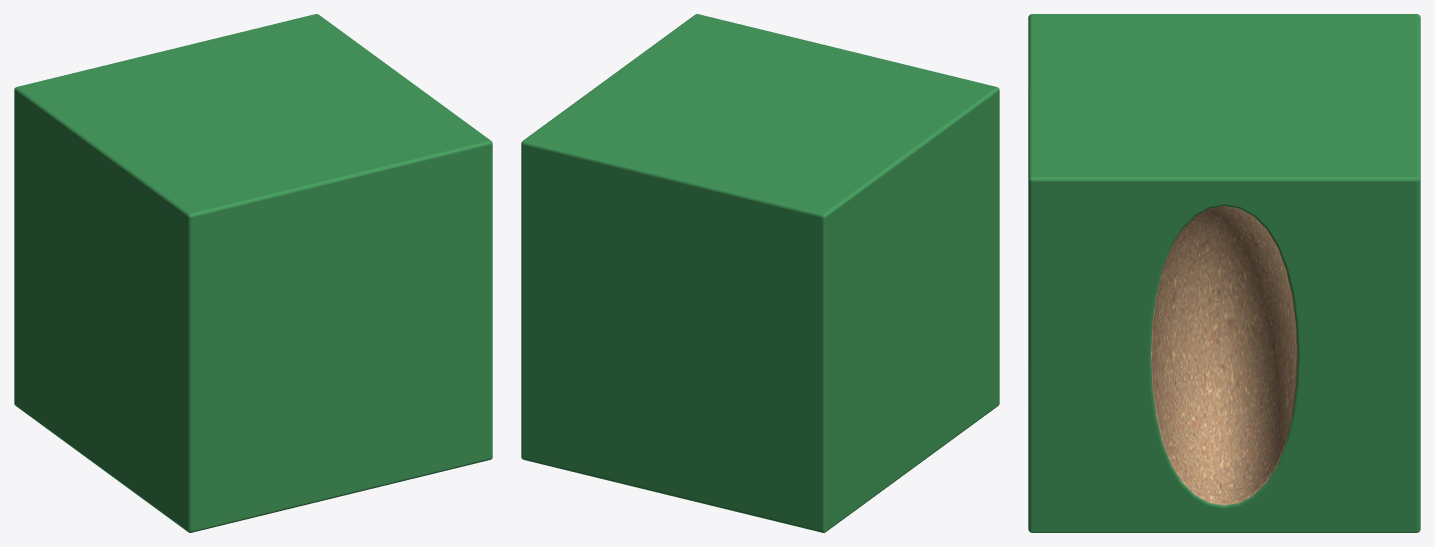
Rendered from sample.glb.
3 views of the same model, side by side, from view 1: azimuth 30°, elevation 25°; view 2: azimuth 150°, elevation 25°; view 3: azimuth 270°, elevation 25° (orthographic). The views are drawn at different scales.
Visible parts, largest first — view 1: Cube; view 2: Cube; view 3: Cube.
Part boxes in pixels (x1,y1,x2,y2): Cube: (14, 14, 492, 532); Cube: (521, 14, 999, 532); Cube: (1028, 14, 1420, 532).
Size of the model in its own units: 2 by 2 by 2.
Materials: 2 (1 with a texture image).
